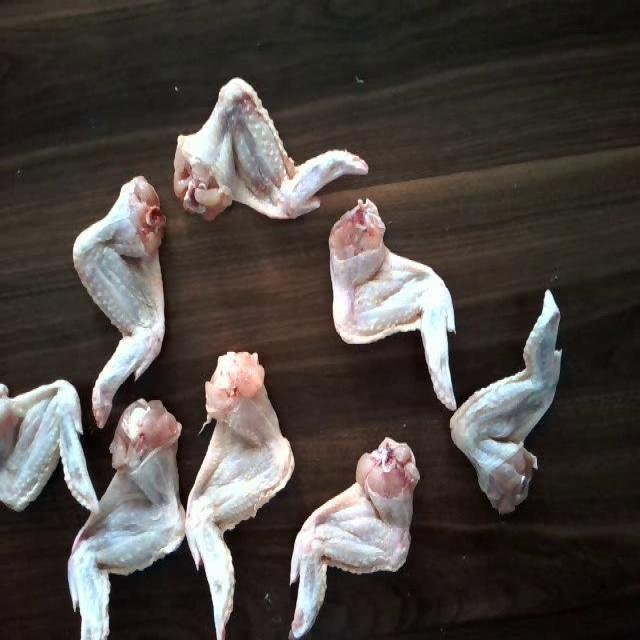wing: (278, 420, 422, 638), (175, 76, 366, 240), (188, 350, 296, 638), (452, 284, 578, 520), (317, 206, 463, 408), (67, 401, 184, 640), (72, 185, 168, 416), (0, 358, 97, 520)
